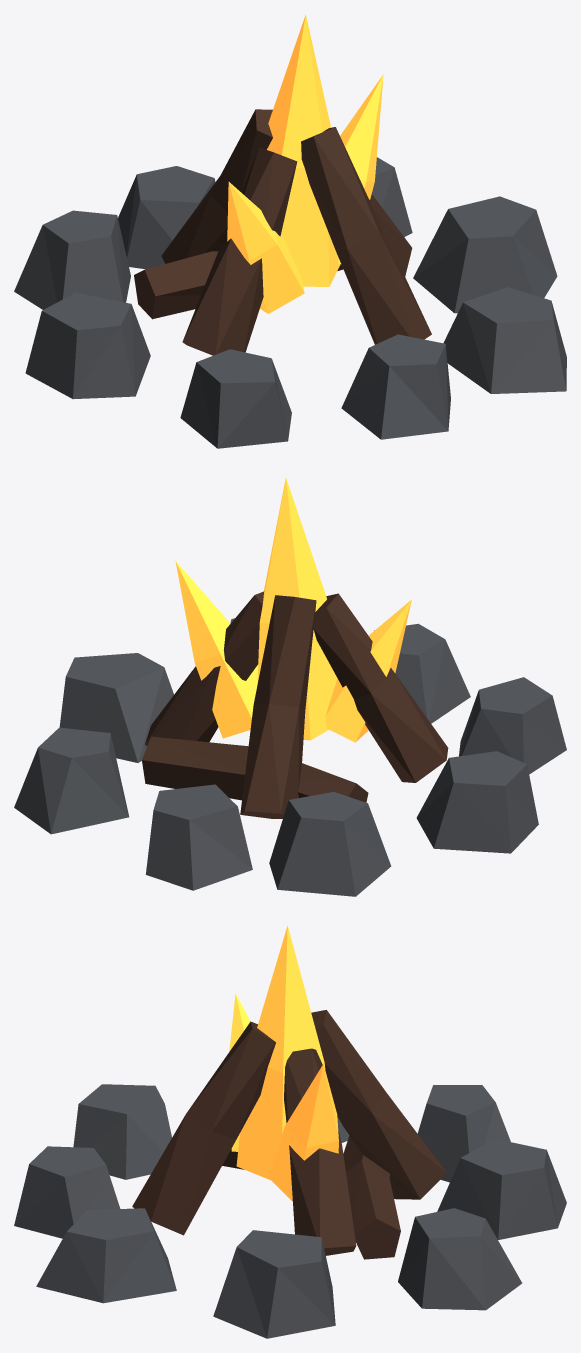
The model's file is CP_Campfire.fbx.
The picture shows the model from 3 angles, top to bottom: view 1: azimuth 30°, elevation 25°; view 2: azimuth 150°, elevation 25°; view 3: azimuth 270°, elevation 25°; orthographic projection. The views are drawn at different scales.
Parts seen in each view (by area): view 1: CP_Campfire_Stones, CP_Campfire_Logs, CP_Campfire_Neon_Flame; view 2: CP_Campfire_Stones, CP_Campfire_Logs, CP_Campfire_Neon_Flame; view 3: CP_Campfire_Stones, CP_Campfire_Logs, CP_Campfire_Neon_Flame.
Part boxes in pixels (x1,y1,x2,y2): CP_Campfire_Stones: [14, 157, 566, 448]; CP_Campfire_Logs: [134, 109, 431, 355]; CP_Campfire_Neon_Flame: [227, 14, 383, 313]; CP_Campfire_Stones: [14, 618, 566, 896]; CP_Campfire_Logs: [142, 591, 448, 818]; CP_Campfire_Neon_Flame: [175, 477, 411, 742]; CP_Campfire_Stones: [14, 1084, 566, 1338]; CP_Campfire_Logs: [132, 1010, 446, 1259]; CP_Campfire_Neon_Flame: [229, 925, 338, 1201].
Bounding box in the file's own units: 6 × 3.6 × 6.
